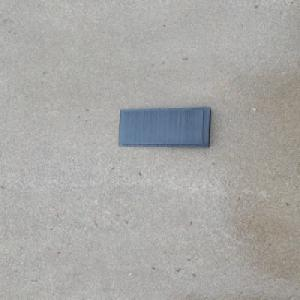PlasticPart: (116, 106, 213, 148)
